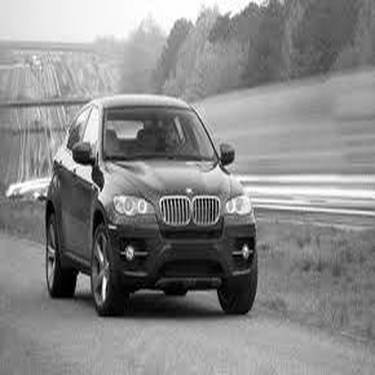car: (21, 84, 261, 320)
